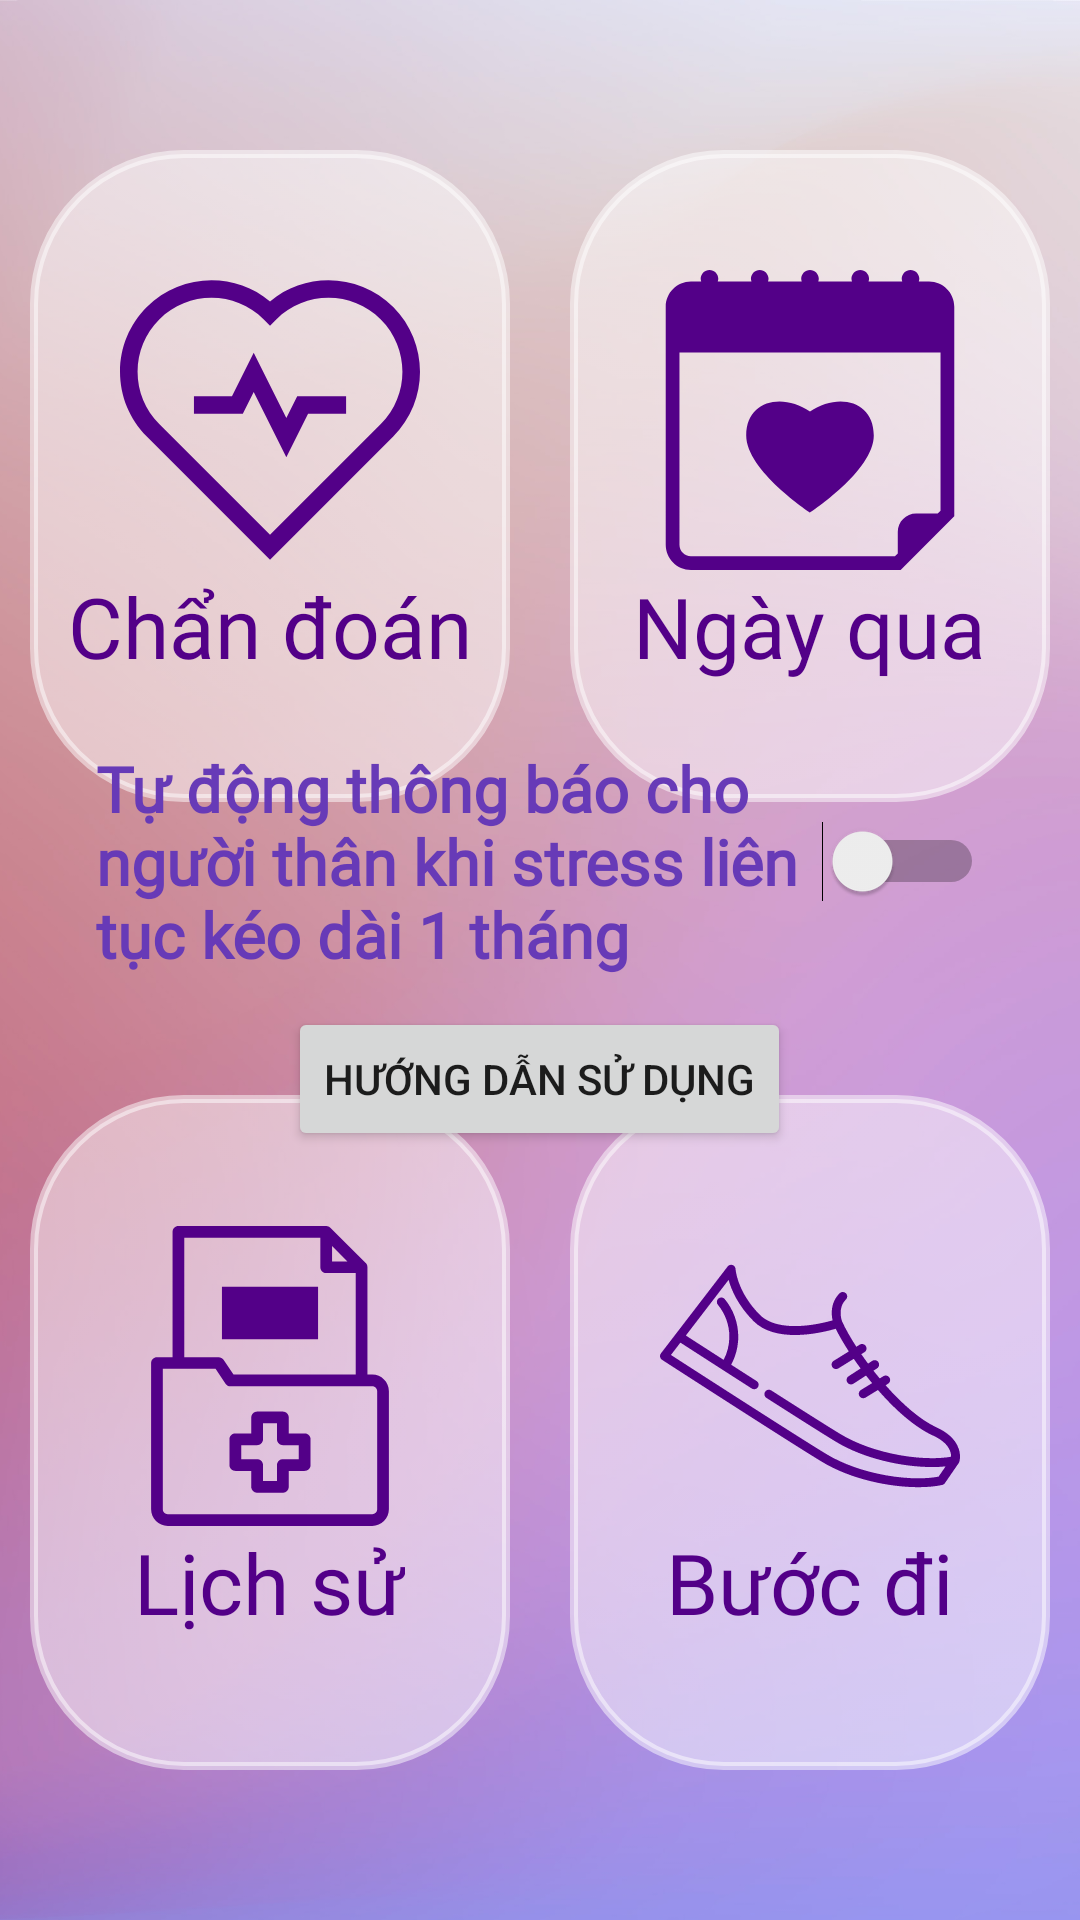

Named icons in this screenshot (1080px×1920px) and their centers, (x,y):
hearticon: (270,420)
medical folder: (254,1376)
shoes: (810,1376)
